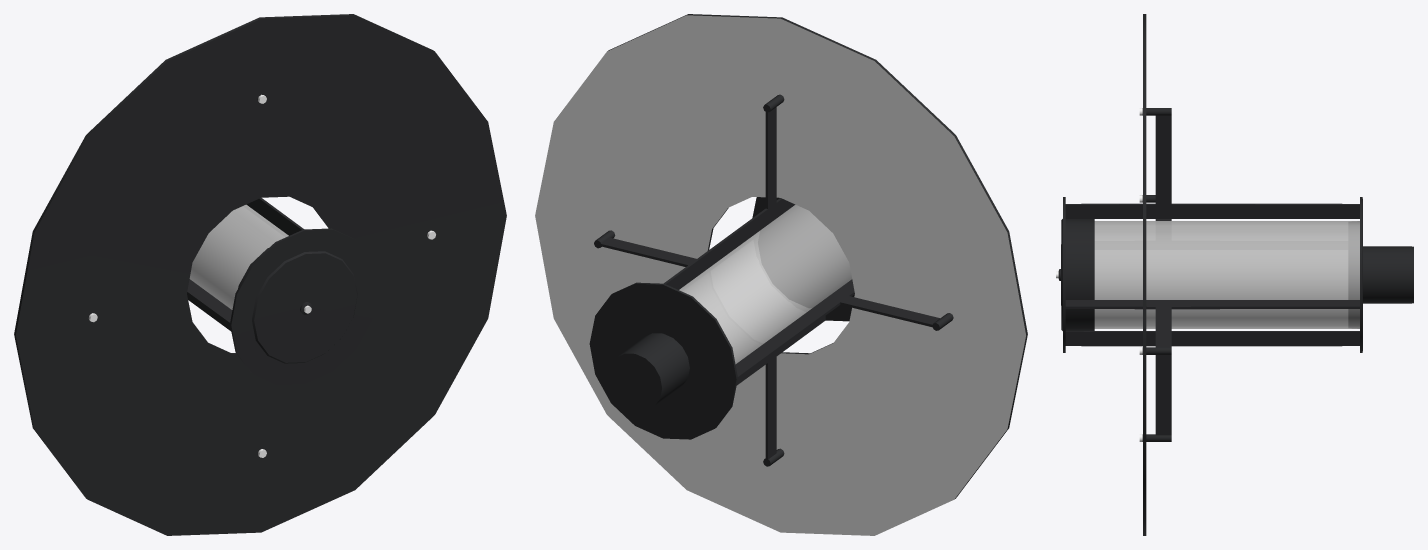
The model's file is Dieter_I.obj.
3 renders of one model, left to right at view 1: azimuth 30°, elevation 25°; view 2: azimuth 150°, elevation 25°; view 3: azimuth 270°, elevation 25°, orthographic. The views are drawn at different scales.
Visible parts, largest first — view 1: BezierCurve.002, Glas, BezierCurve.005; view 2: BezierCurve.002, Glas, BezierCurve.005, Cylinder.001; view 3: Glas, BezierCurve.005, BezierCurve.002, Cylinder.001.
Part boxes in pixels (x1=…): BezierCurve.002: x1=14, y1=14, x2=506, y2=535; Glas: x1=189, y1=204, x2=288, y2=309; BezierCurve.005: x1=187, y1=197, x2=303, y2=331; BezierCurve.002: x1=535, y1=14, x2=1027, y2=535; Glas: x1=679, y1=204, x2=852, y2=364; BezierCurve.005: x1=601, y1=107, x2=939, y2=459; Cylinder.001: x1=594, y1=94, x2=953, y2=466; Glas: x1=1094, y1=221, x2=1359, y2=328; BezierCurve.005: x1=1065, y1=115, x2=1359, y2=435; BezierCurve.002: x1=1056, y1=14, x2=1413, y2=535; Cylinder.001: x1=1139, y1=108, x2=1171, y2=441.
Size of the model in its own units: 0.82 by 0.82 by 0.5613.
4 materials, 3 textured.
